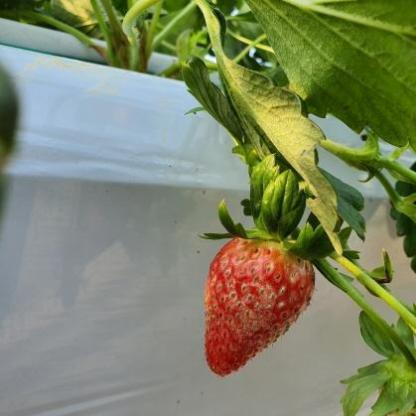Strawberry_Powdery_Mildew_Fruit: (202, 236, 316, 380)
